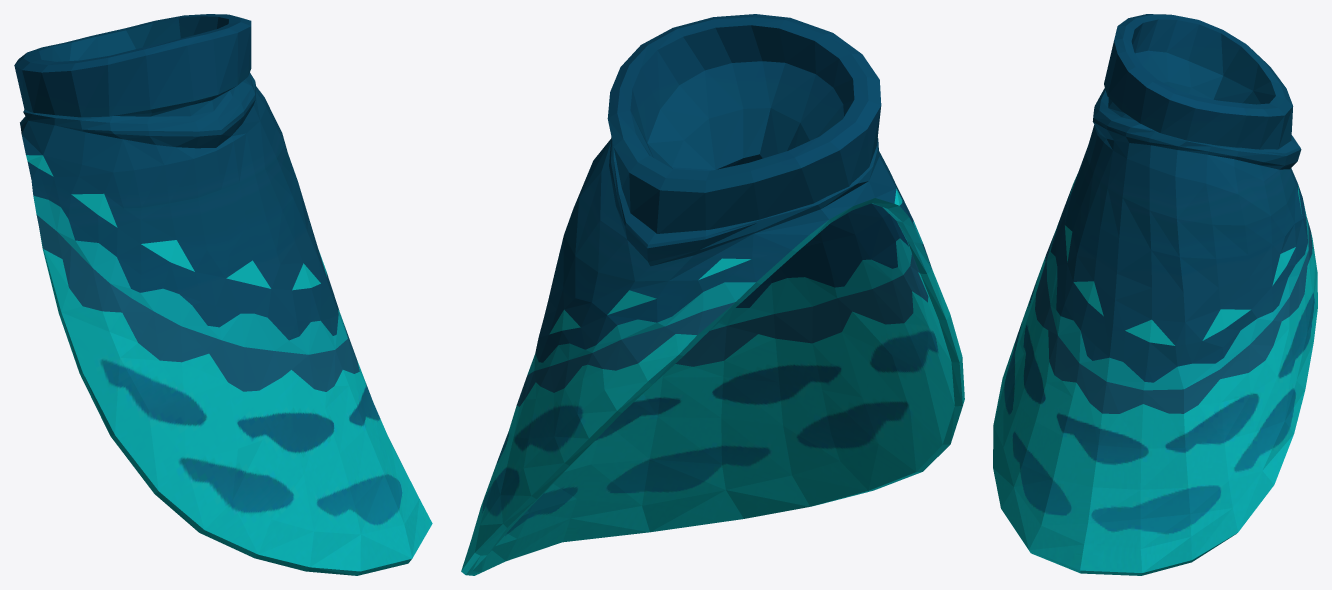
Rendered from CharSkyKid_Wing_FishPattern.glb.
3 views of the same model, side by side, from view 1: azimuth 30°, elevation 25°; view 2: azimuth 150°, elevation 25°; view 3: azimuth 270°, elevation 25° (orthographic). The views are drawn at different scales.
Parts seen in each view (by area): view 1: CharSkyKid_Wing_FishPattern; view 2: CharSkyKid_Wing_FishPattern; view 3: CharSkyKid_Wing_FishPattern.
Boxes of the visible parts, x1,y1,x2,y2 form: CharSkyKid_Wing_FishPattern: (14,14,432,575); CharSkyKid_Wing_FishPattern: (461,14,964,575); CharSkyKid_Wing_FishPattern: (993,14,1317,575).
Bounding box in the file's own units: 5.3 × 7.12 × 4.72.
Materials: 1 (1 with a texture image).
